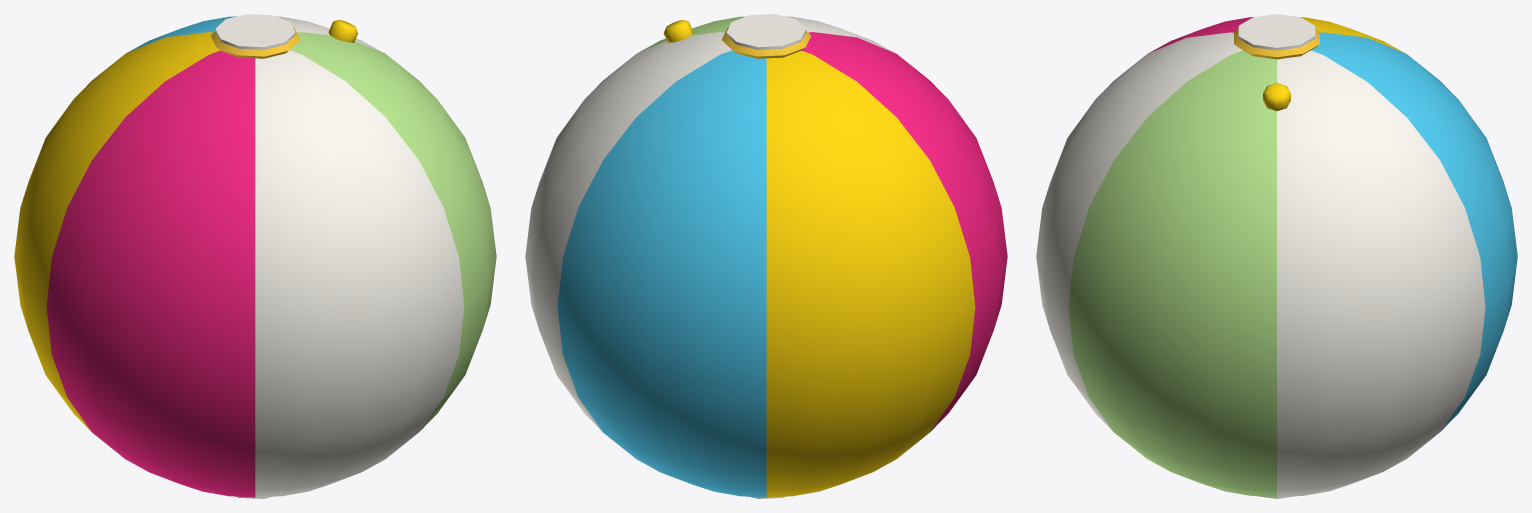
The model's file is BeachBall.fbx.
3 renders of one model, left to right at view 1: azimuth 30°, elevation 25°; view 2: azimuth 150°, elevation 25°; view 3: azimuth 270°, elevation 25°, orthographic.
Parts seen in each view (by area): view 1: BeachBall; view 2: BeachBall; view 3: BeachBall.
Part boxes in pixels (x1,y1,x2,y2): BeachBall: [14, 14, 496, 498]; BeachBall: [525, 14, 1007, 498]; BeachBall: [1036, 14, 1517, 498].
Bounding box in the file's own units: 2.4 × 2.48 × 2.4.
